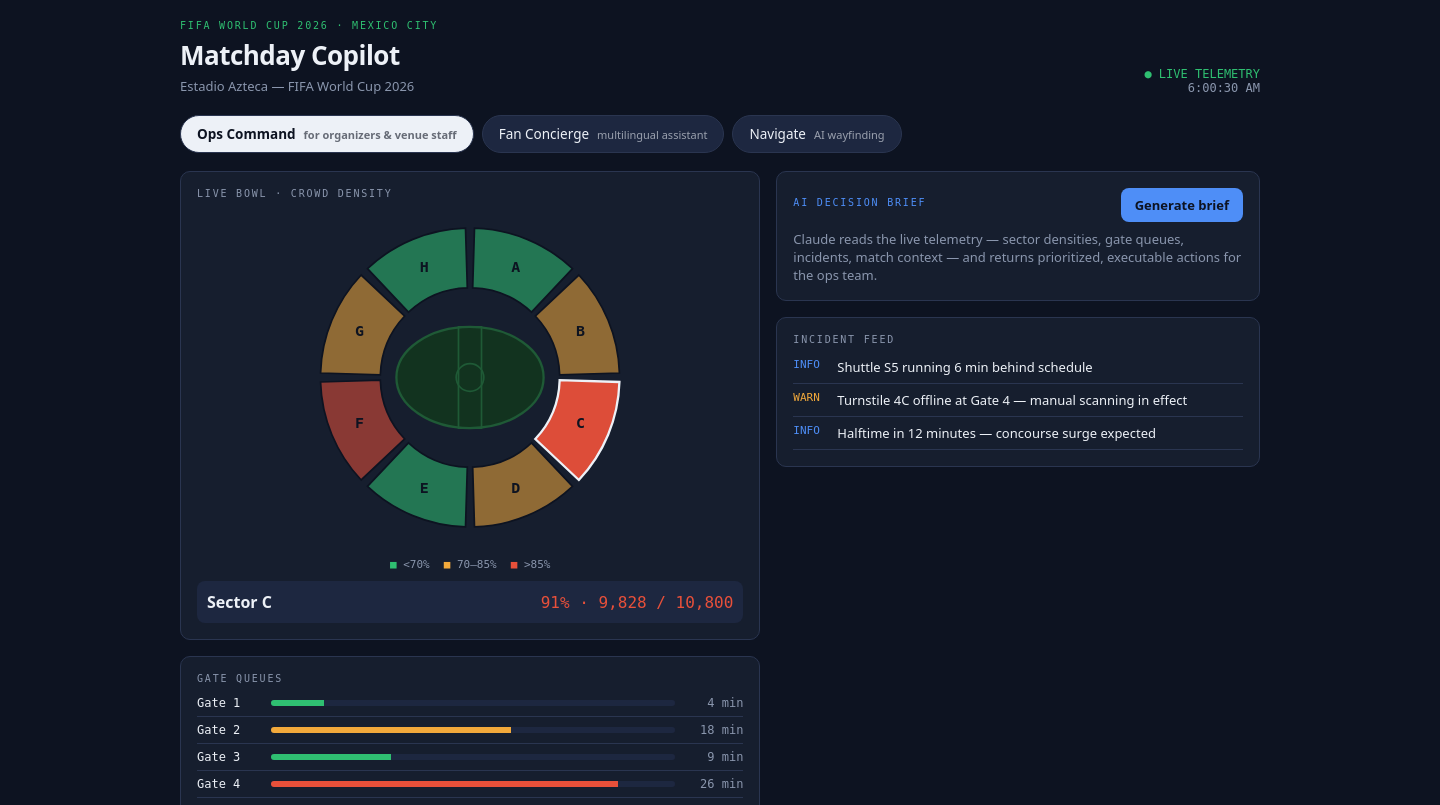
App › switches to Navigate with a step-free option
This screenshot has width=1440, height=805.
Click the tab "Navigate" at (817, 134), box [732,115,902,153]
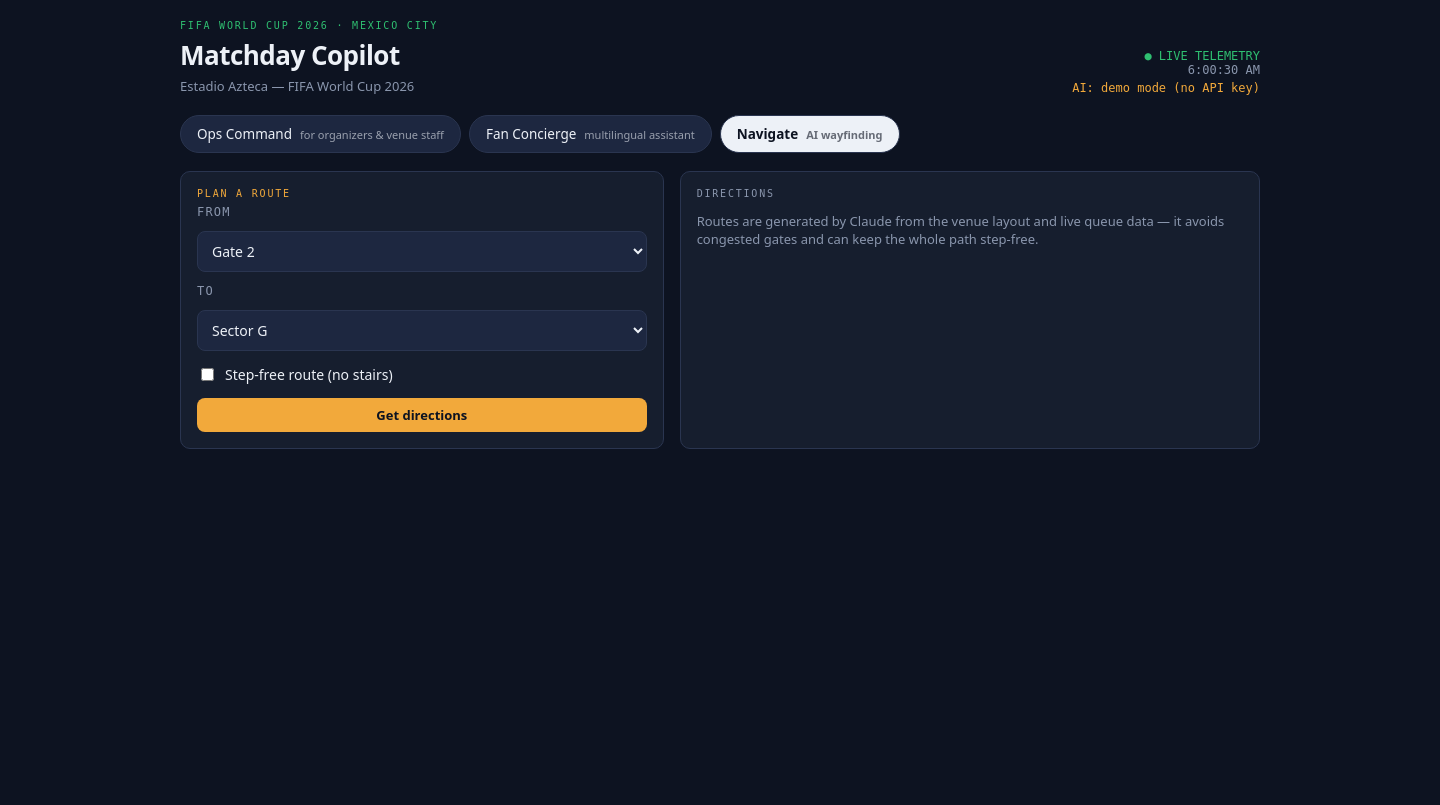
Expected: the text "Step-free route (no stairs)" is shown, [201,365,393,384]
Expected: the button "Get directions" is shown, [197,398,647,432]
